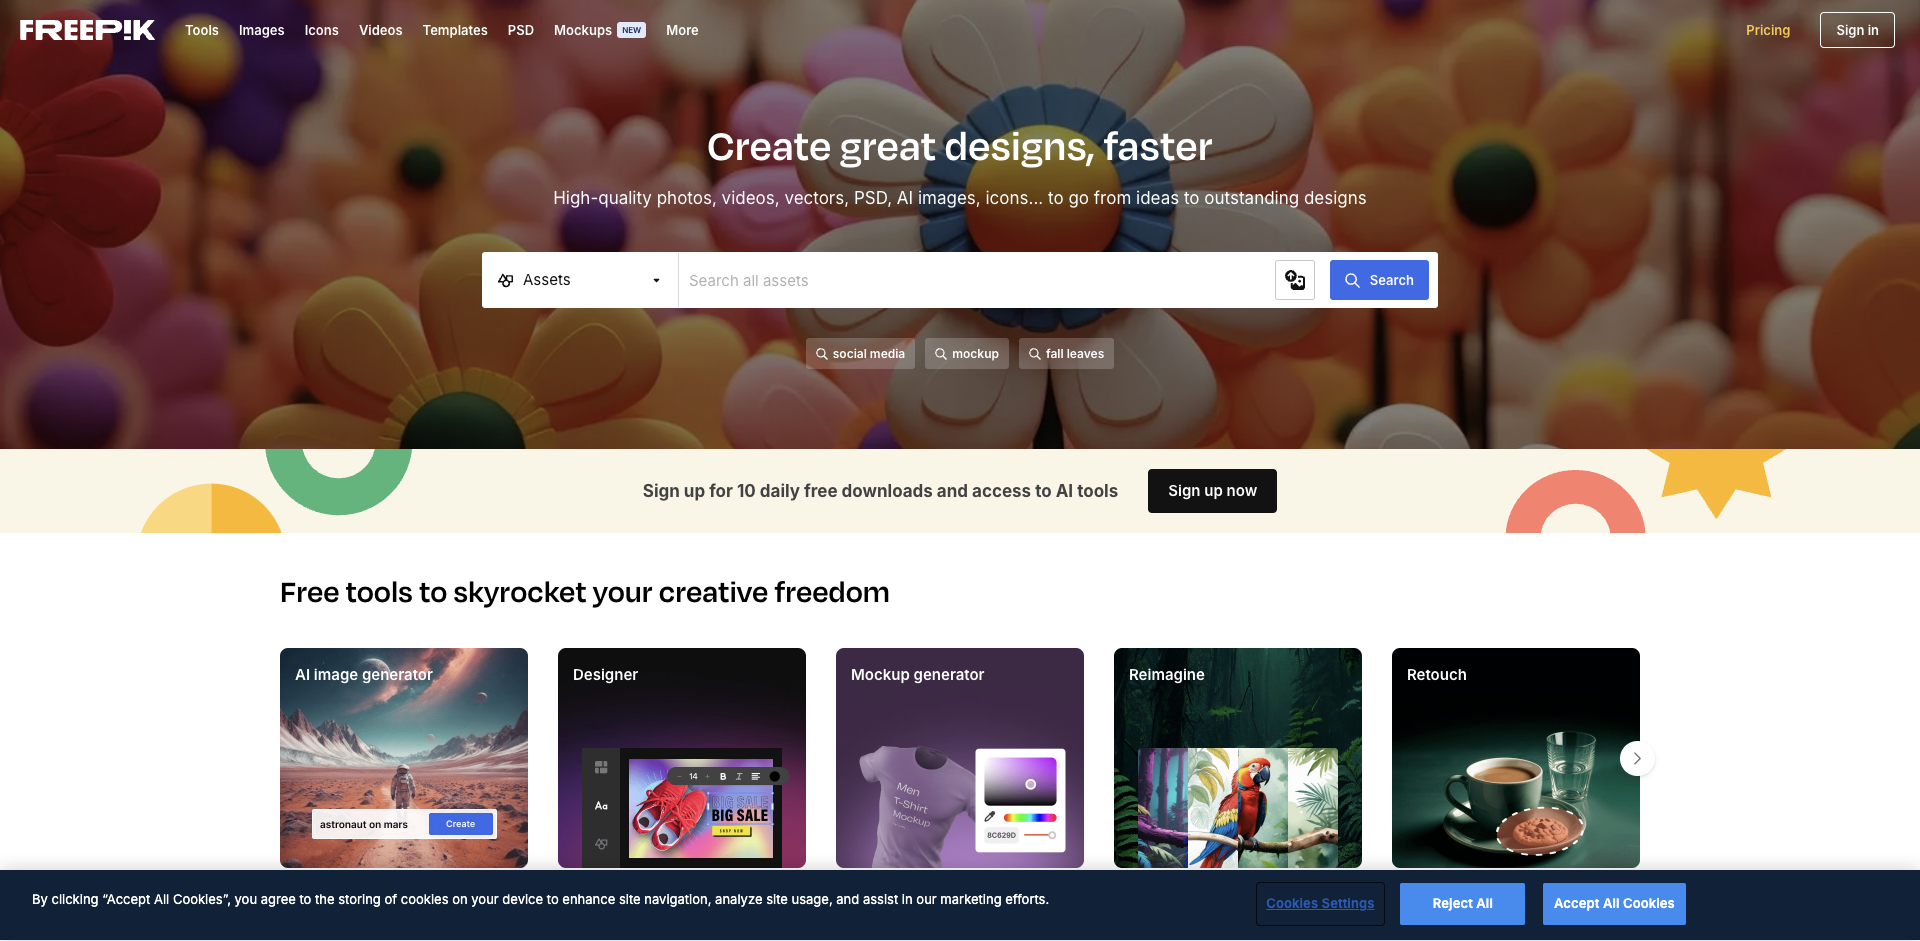button: (1056, 870, 1900, 941), (482, 254, 678, 308), (1620, 648, 1656, 869), (1543, 883, 1686, 925), (1401, 883, 1526, 925), (1258, 885, 1382, 924), (1330, 260, 1429, 300), (544, 20, 656, 40), (413, 20, 498, 40), (1275, 260, 1315, 300), (229, 20, 295, 40), (349, 20, 413, 40), (175, 20, 229, 40), (295, 20, 349, 40), (656, 20, 709, 40), (498, 20, 544, 40)
input: (680, 259, 1275, 303)
link: (280, 648, 528, 869), (558, 648, 806, 869), (836, 648, 1084, 869), (1114, 648, 1362, 869), (1392, 648, 1640, 869), (1670, 648, 1918, 869), (1149, 469, 1277, 513), (806, 338, 915, 369), (1019, 338, 1114, 369), (1821, 11, 1896, 49), (20, 20, 156, 40), (926, 338, 1009, 369), (1736, 20, 1800, 40)
